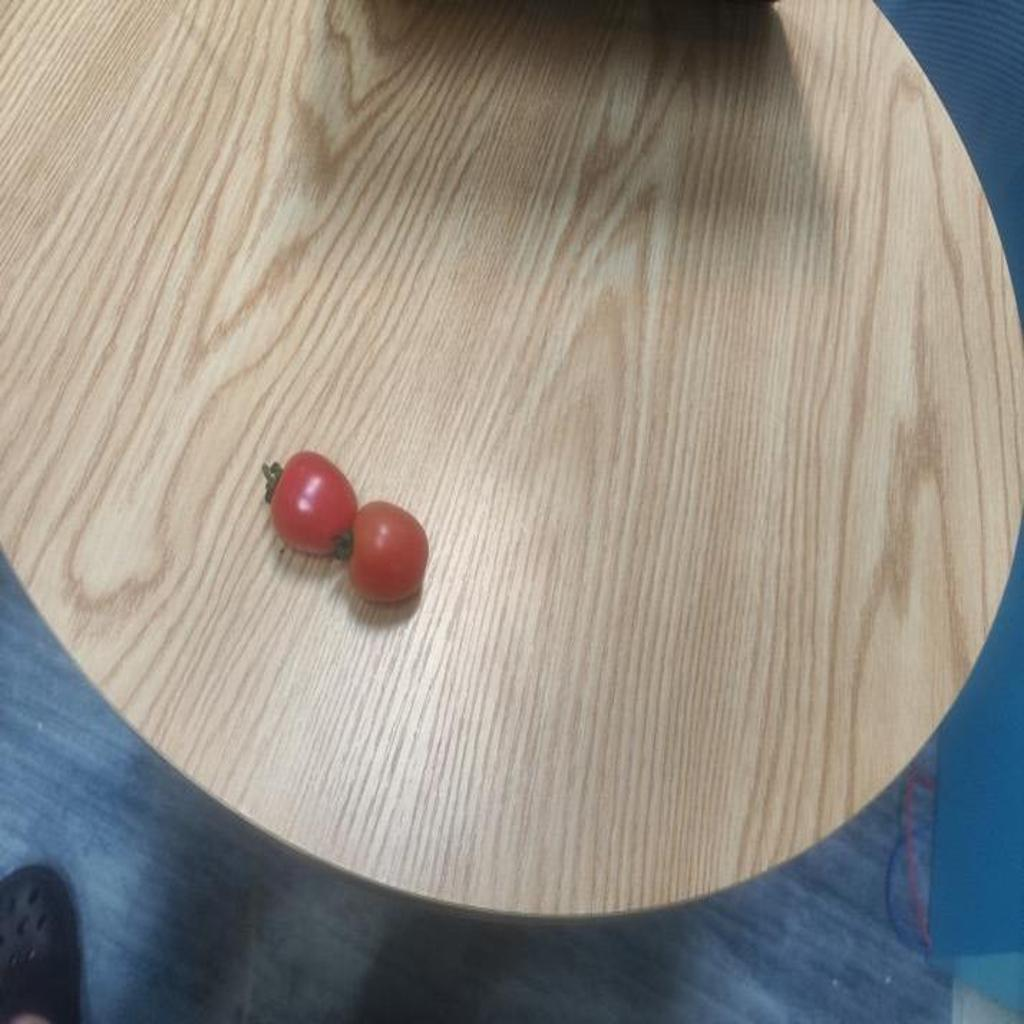tomato: (263, 449, 359, 563), (339, 498, 430, 615)
